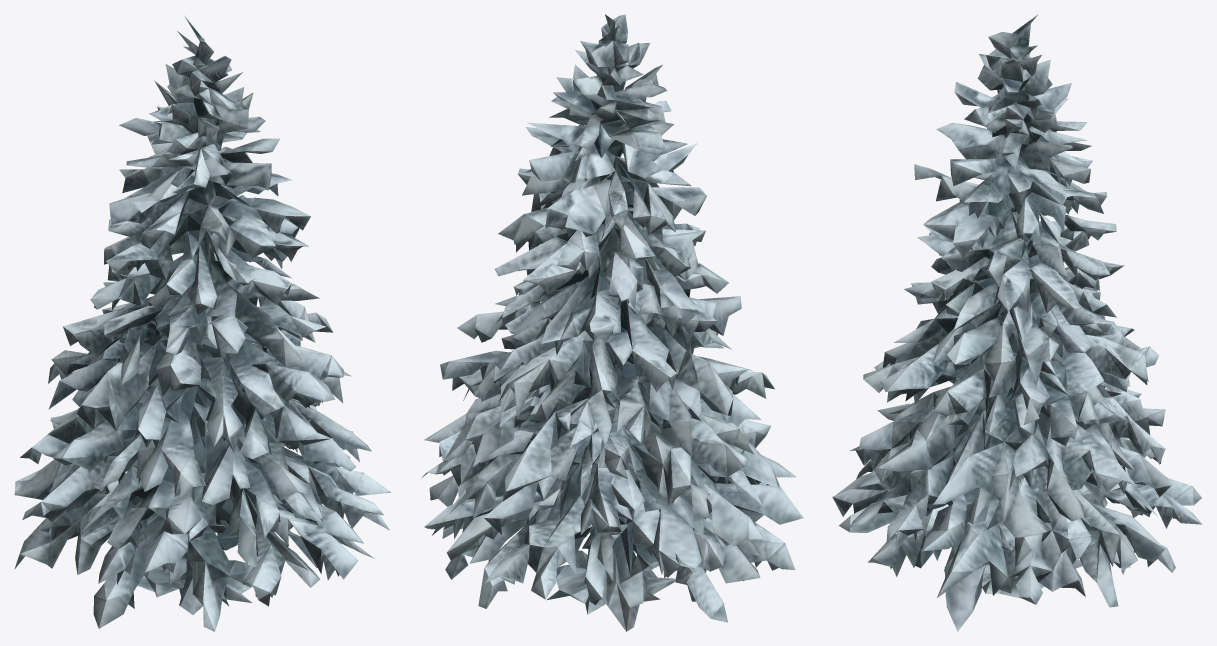
Rendered from mx_sg_pine.glb.
3 renders of one model, left to right at view 1: azimuth 30°, elevation 25°; view 2: azimuth 150°, elevation 25°; view 3: azimuth 270°, elevation 25°, orthographic. The views are drawn at different scales.
Size of the model in its own units: 1.11 by 1.8 by 1.09.
1 material, 1 textured.
